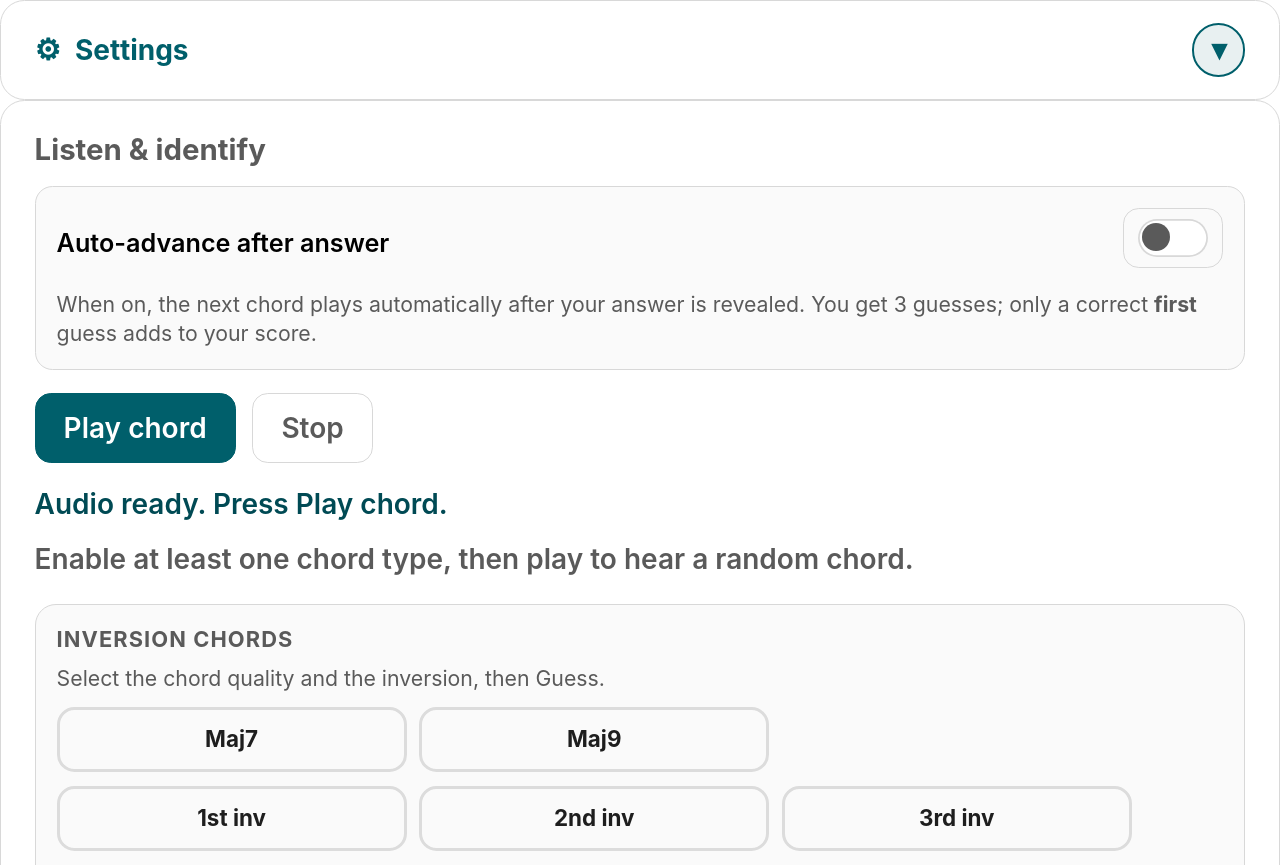
it: ChordTopic — two-part inversion guessing › disables an inversion the picked quality cannot take (3rd inv on a 7th chord)
The width and height of the screenshot is (1280, 865).
Click the button "Play chord" at (135, 428), box [35,393,236,463]
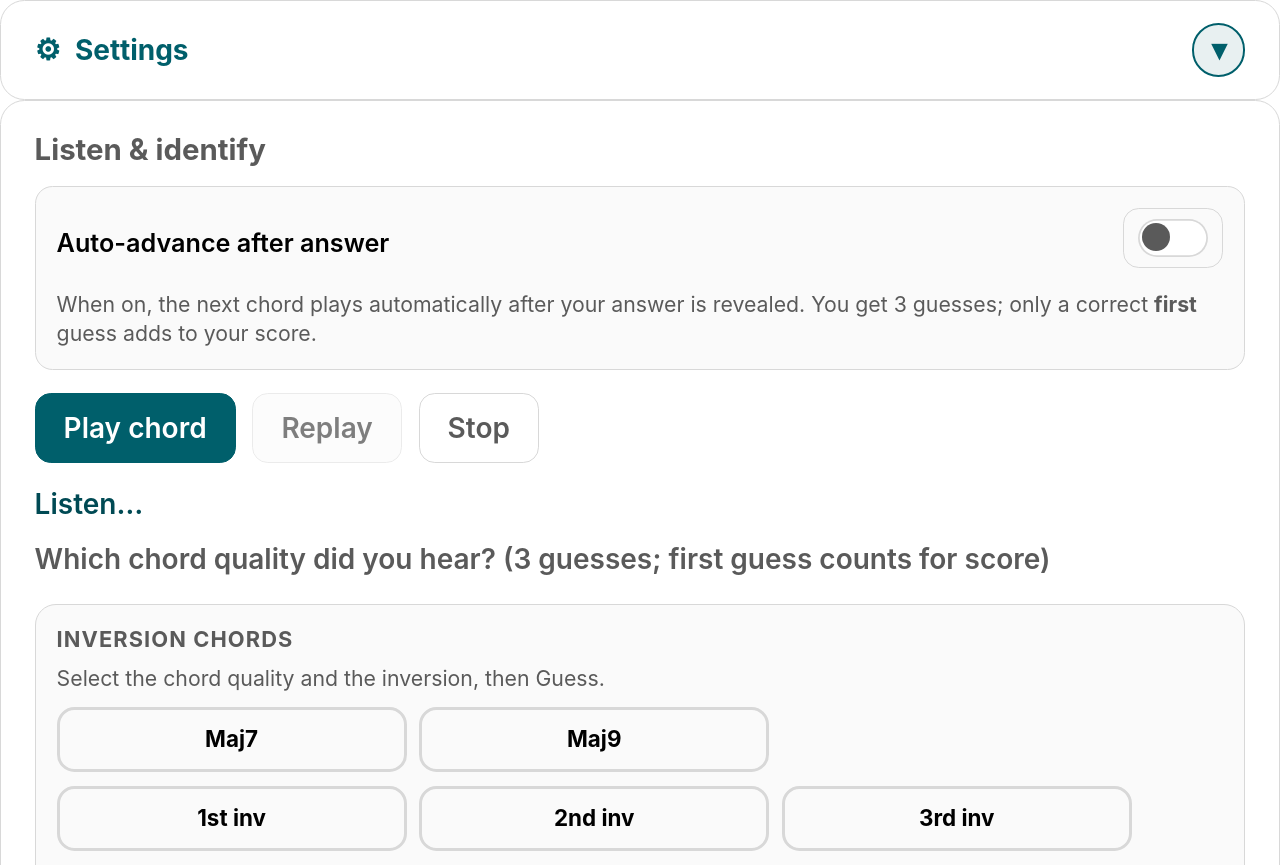
Expected: the button "3rd inv" is enabled, [782,786,1132,851]
Click the button "Maj7" at (232, 740), box [57,707,407,772]
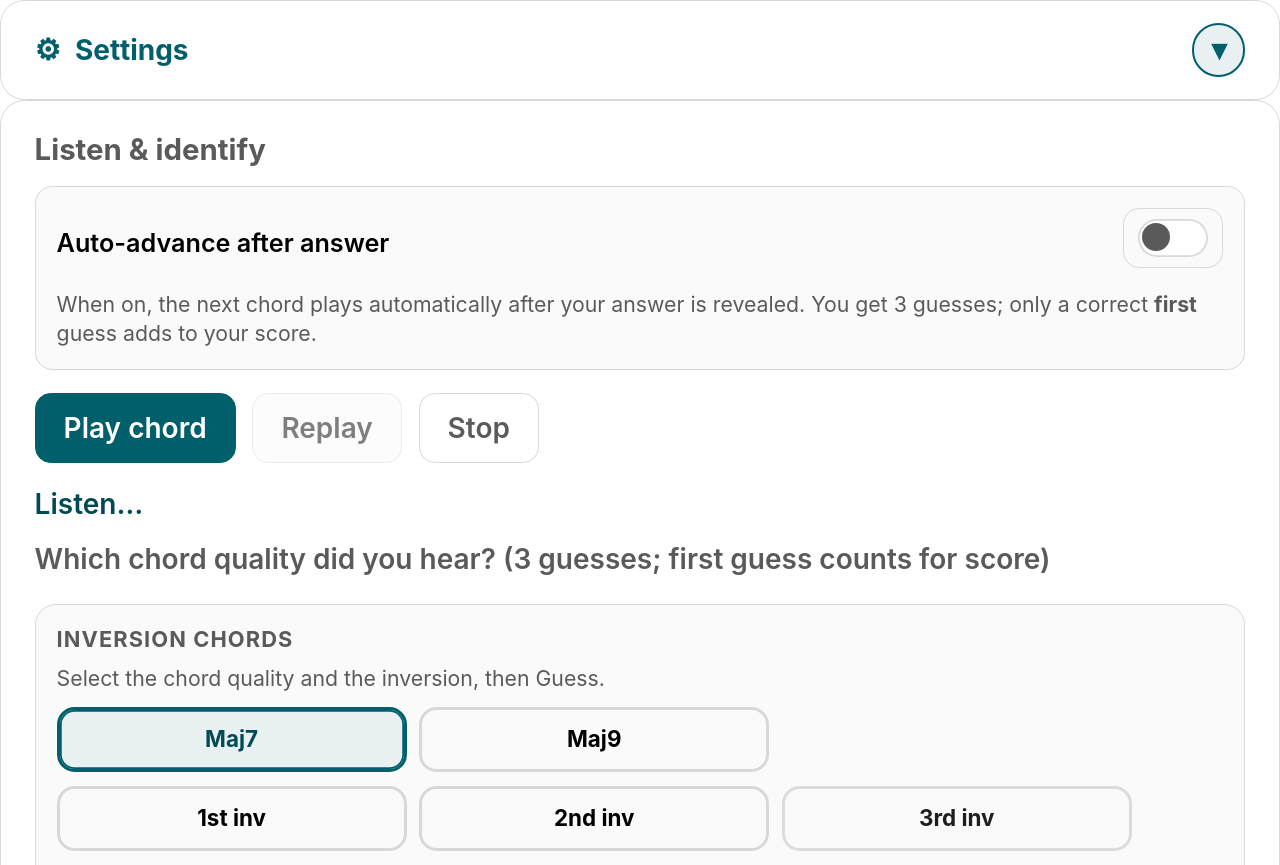
Expected: the button "3rd inv" is disabled, [782,786,1132,851]
